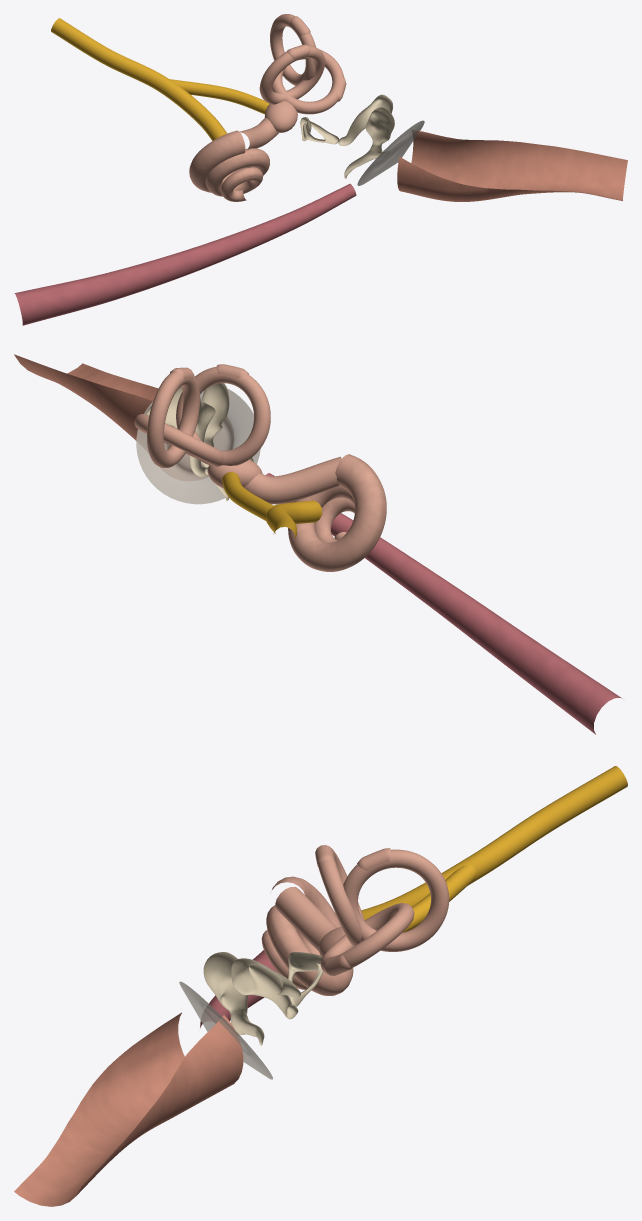
Rendered from x-ear.a8a04bdd.glb.
3 renders of one model, top to bottom at view 1: azimuth 30°, elevation 25°; view 2: azimuth 150°, elevation 25°; view 3: azimuth 270°, elevation 25°, orthographic. The views are drawn at different scales.
Visible parts, largest first — view 1: Ear canal, Eustachian tube, Semicircular canals, Hearing and balance nerve, Cochlea, Hammer (malleus), Eardrum, Anvil (incus), Vestibule, Stirrup (stapes); view 2: Eustachian tube, Cochlea, Semicircular canals, Ear canal, Eardrum, Hearing and balance nerve, Hammer (malleus), Anvil (incus), Vestibule; view 3: Ear canal, Semicircular canals, Hearing and balance nerve, Cochlea, Anvil (incus), Hammer (malleus), Eardrum, Stirrup (stapes), Eustachian tube.
Part boxes in pixels (bbox=[...]): Ear canal: bbox=[397, 130, 627, 201]; Eustachian tube: bbox=[14, 184, 356, 325]; Semicircular canals: bbox=[259, 14, 346, 114]; Hearing and balance nerve: bbox=[51, 18, 269, 140]; Cochlea: bbox=[189, 117, 278, 201]; Hammer (malleus): bbox=[344, 107, 394, 178]; Eardrum: bbox=[357, 120, 424, 185]; Anvil (incus): bbox=[338, 94, 392, 145]; Vestibule: bbox=[264, 101, 297, 132]; Stirrup (stapes): bbox=[300, 117, 339, 144]; Eustachian tube: bbox=[266, 473, 622, 734]; Cochlea: bbox=[244, 454, 386, 571]; Semicircular canals: bbox=[134, 364, 270, 467]; Ear canal: bbox=[14, 354, 233, 480]; Eardrum: bbox=[136, 388, 260, 504]; Hearing and balance nerve: bbox=[222, 472, 322, 538]; Hammer (malleus): bbox=[201, 383, 229, 501]; Anvil (incus): bbox=[146, 386, 215, 477]; Vestibule: bbox=[207, 459, 262, 488]; Ear canal: bbox=[14, 1012, 243, 1206]; Semicircular canals: bbox=[315, 845, 449, 976]; Hearing and balance nerve: bbox=[361, 766, 627, 932]; Cochlea: bbox=[261, 876, 353, 995]; Anvil (incus): bbox=[231, 958, 300, 1019]; Hammer (malleus): bbox=[203, 952, 264, 1045]; Eardrum: bbox=[179, 981, 272, 1079]; Stirrup (stapes): bbox=[288, 952, 323, 1006]; Eustachian tube: bbox=[200, 950, 278, 1028].
Size of the model in its own units: 0.3 by 0.1175 by 0.206.
